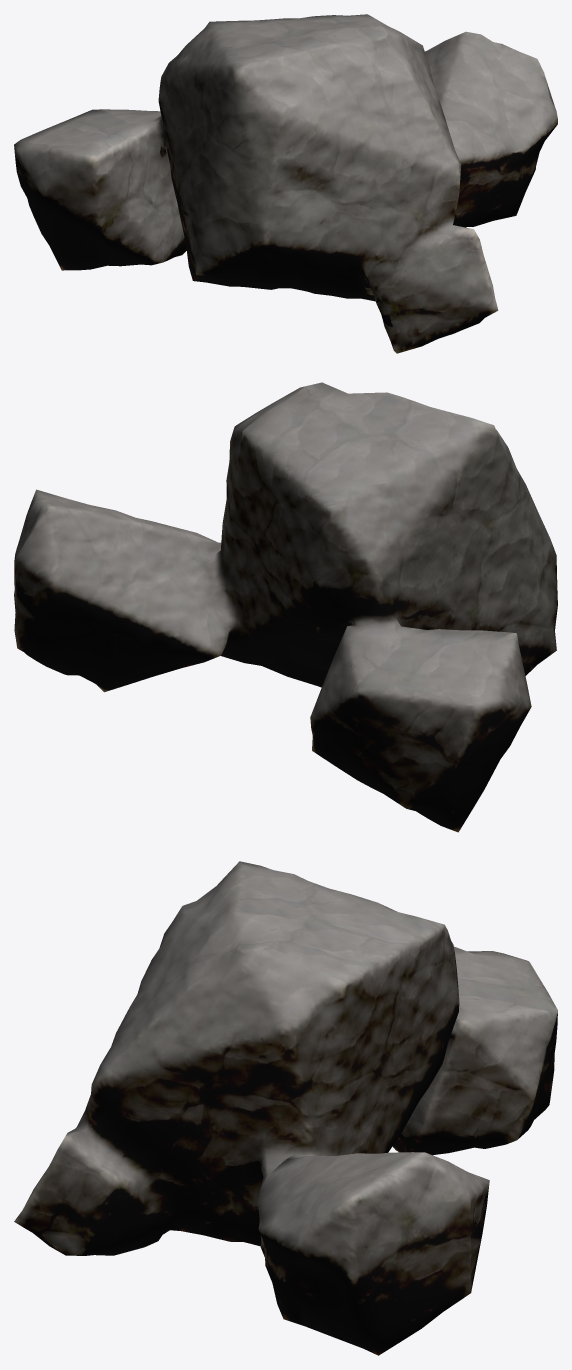
Rendered from boulder_cluster.glb.
3 renders of one model, top to bottom at view 1: azimuth 30°, elevation 25°; view 2: azimuth 150°, elevation 25°; view 3: azimuth 270°, elevation 25°, orthographic. The views are drawn at different scales.
Visible parts, largest first — view 1: rock; view 2: rock; view 3: rock.
Boxes of the visible parts, x1=… form: rock: x1=14, y1=14, x2=557, y2=353; rock: x1=14, y1=382, x2=557, y2=832; rock: x1=14, y1=861, x2=557, y2=1355.
Size of the model in its own units: 1.48 by 0.772 by 1.19.
1 material, 1 textured.
